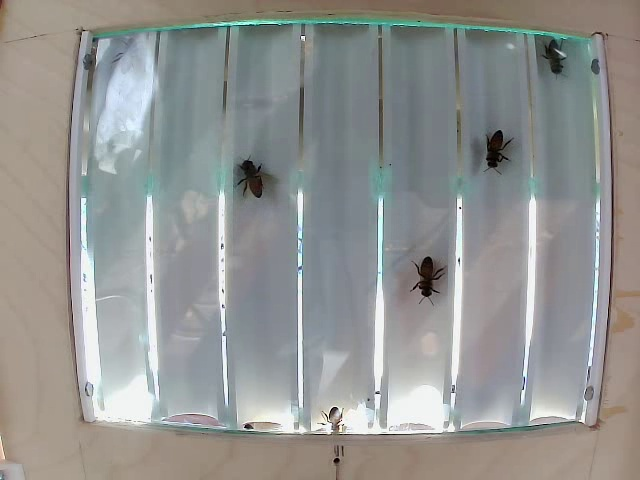bee: (228, 166, 280, 209), (476, 139, 519, 182), (539, 44, 571, 95), (414, 252, 445, 304)
